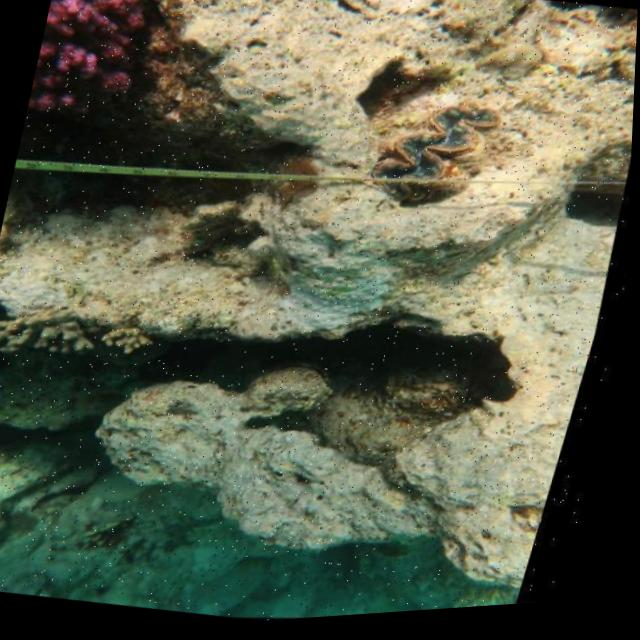Healthy Coral: (25, 0, 192, 145)
